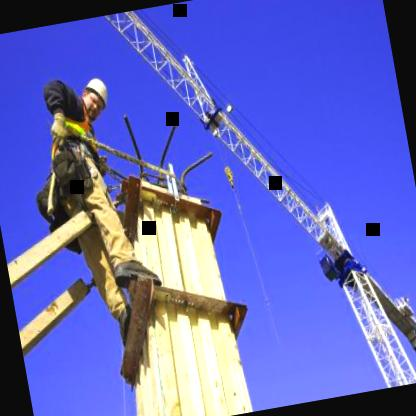helmet: (76, 74, 112, 124)
